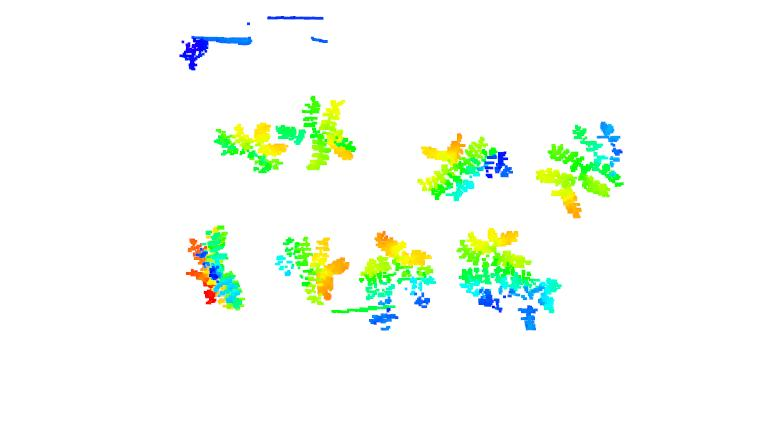chickpea: (533, 119, 629, 218), (455, 228, 558, 313), (418, 134, 514, 202), (359, 232, 438, 309), (272, 233, 352, 307), (276, 97, 357, 169), (184, 226, 250, 313), (213, 120, 287, 178)
